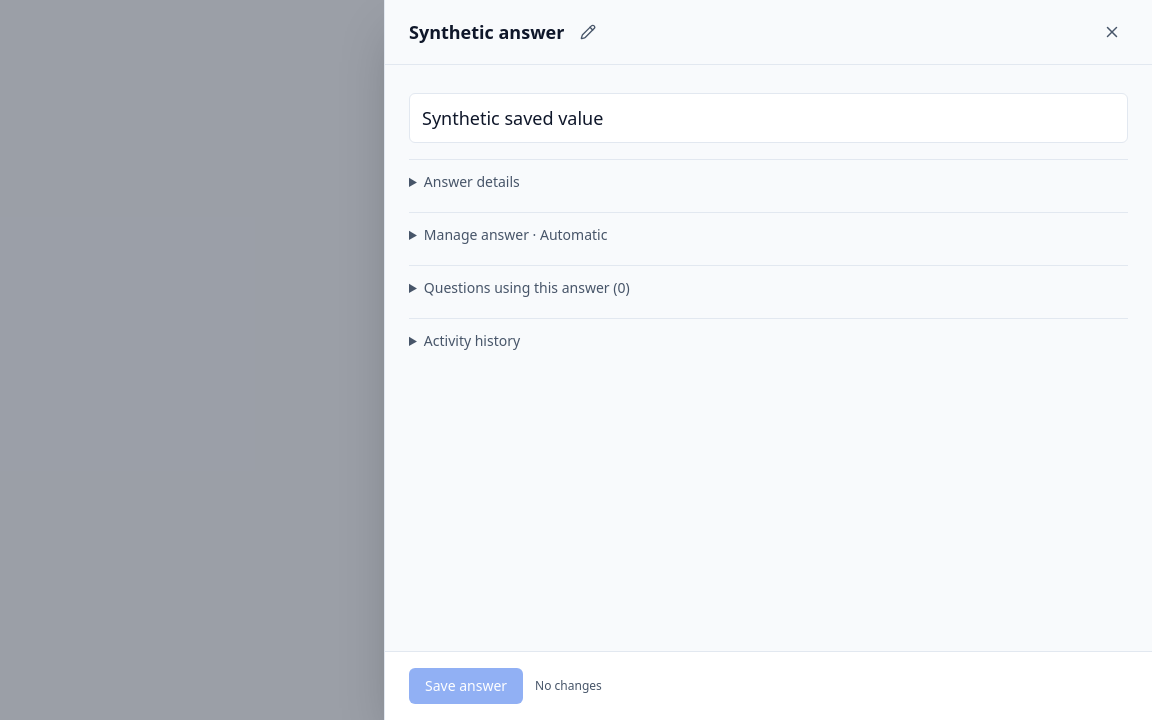
Scenario: AnswerDrawer Question creation › shows an impact summary only when the saved value or filling changes
Expected: the button "Save answer" is disabled, 409,668 -> 523,704
Click the button named "Edit answer name".
click(588, 32)  # box 572,16 -> 604,48
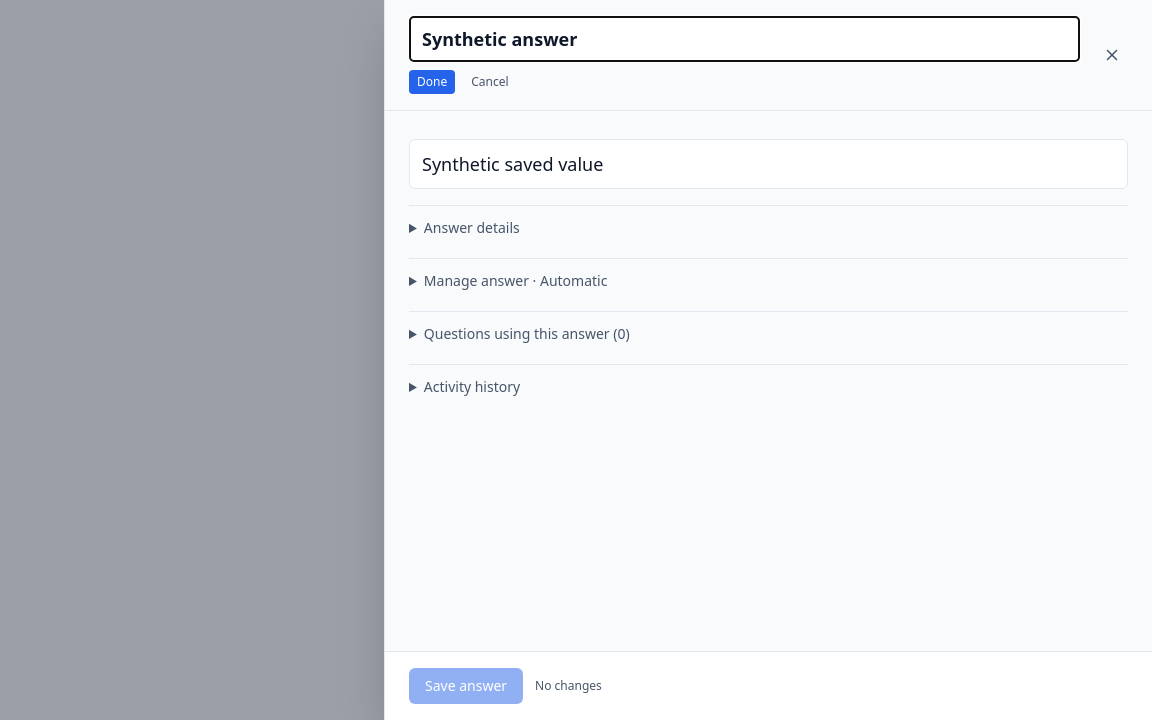
Replace the text in the field named "Answer name" with "Renamed answer" at (744, 39), box 409,16 -> 1080,62
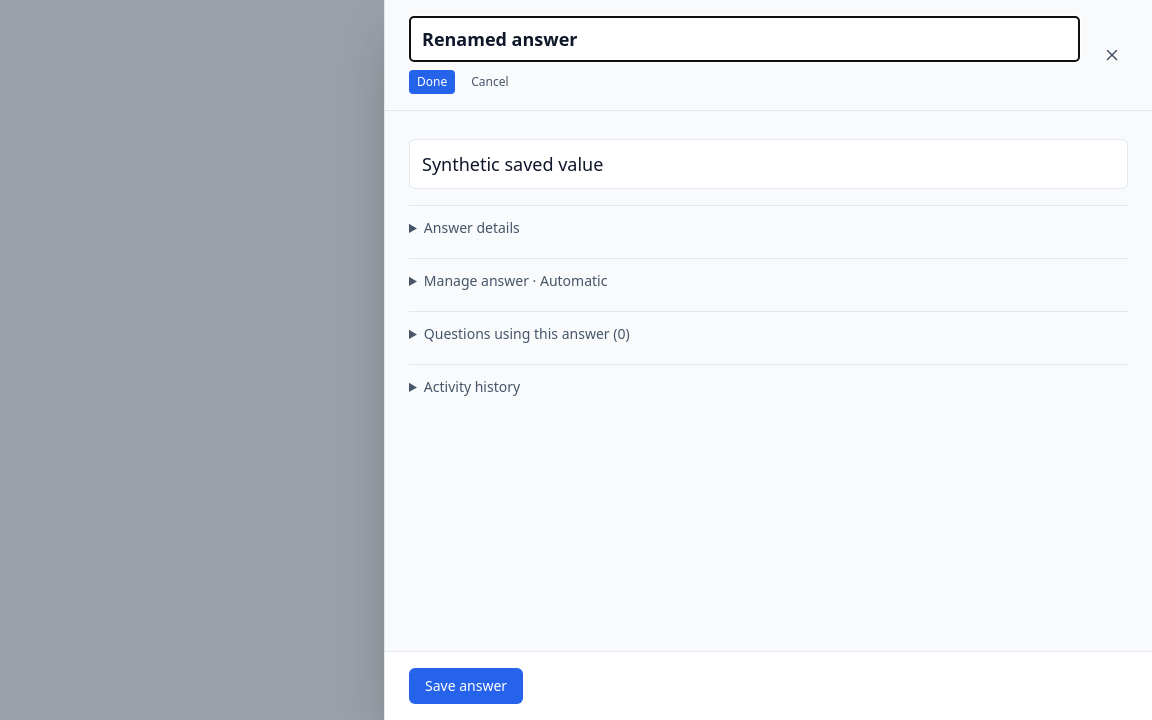
Replace the text in the field named "Value" with "Updated synthetic value" at (768, 164), box 409,139 -> 1128,189
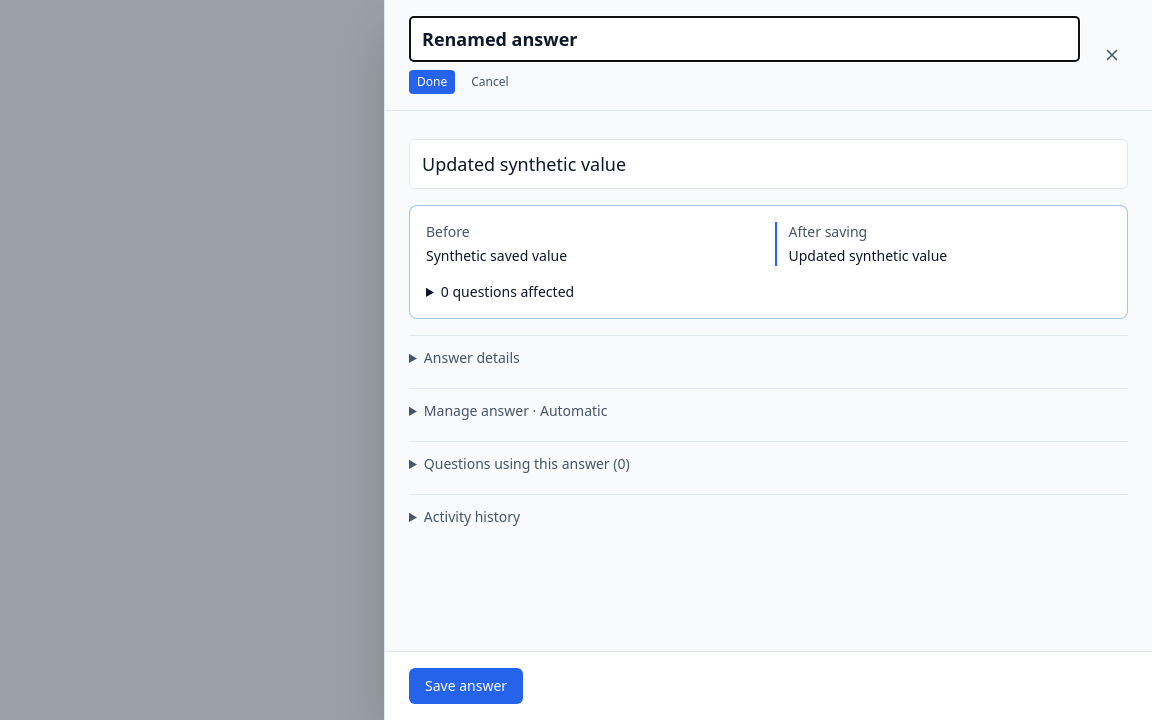
Expected: the button "Save answer" is enabled, 409,668 -> 523,704
Expected: the element named "What will change" is shown, 409,205 -> 1128,319
